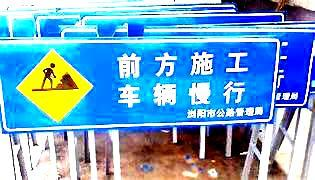sign: (1, 41, 275, 130)
